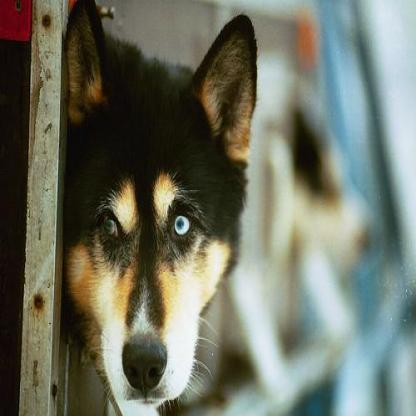Eskimo_dog: (63, 0, 258, 414)
